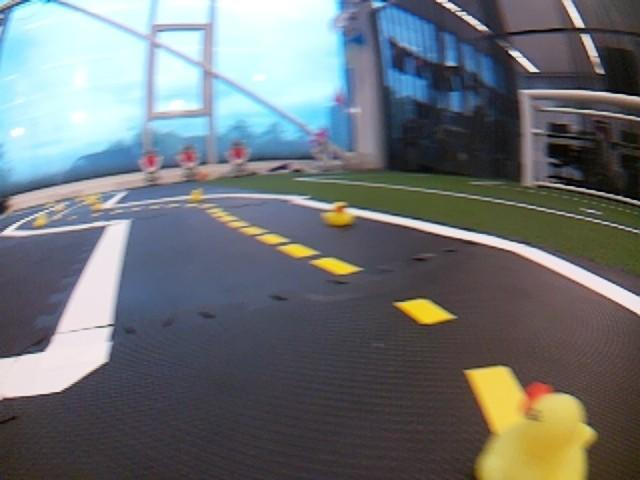Duckies: (474, 385, 600, 480), (322, 203, 355, 225), (187, 189, 204, 201), (33, 214, 47, 228), (86, 192, 99, 204), (93, 201, 103, 211), (55, 202, 65, 210)
